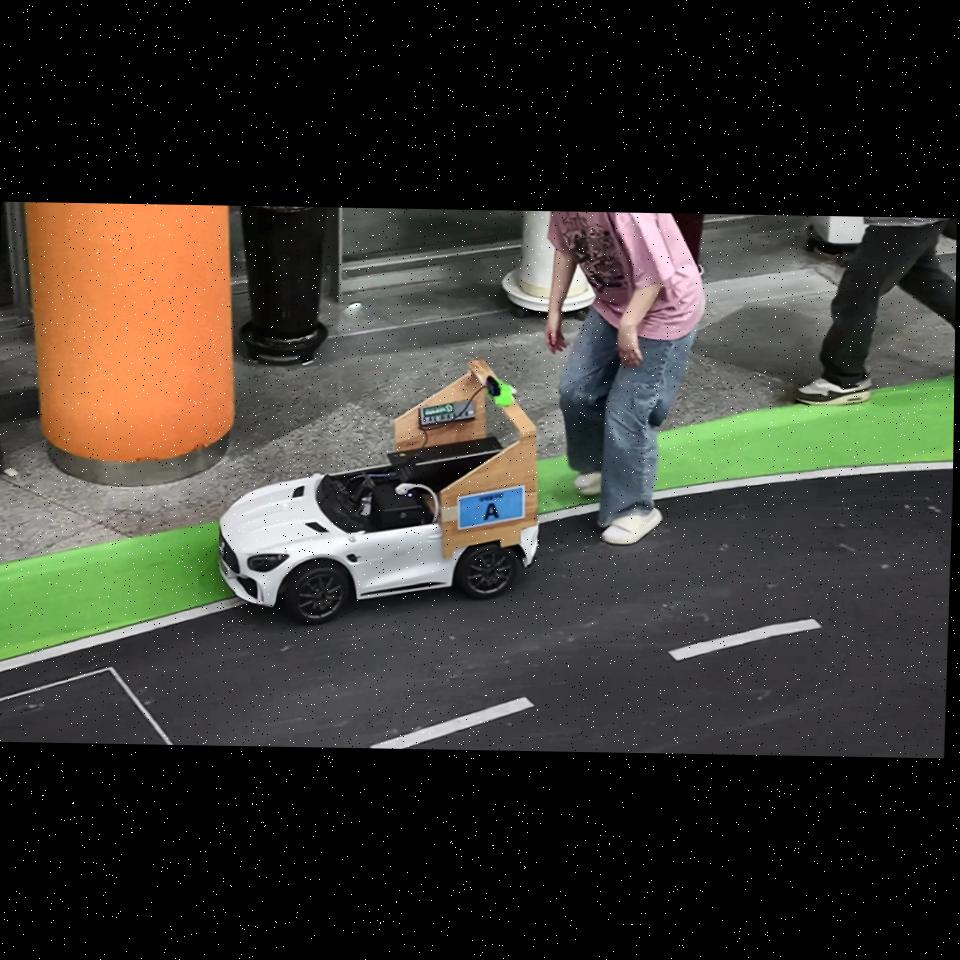broken_line: (369, 696, 535, 748), (667, 619, 823, 661)
